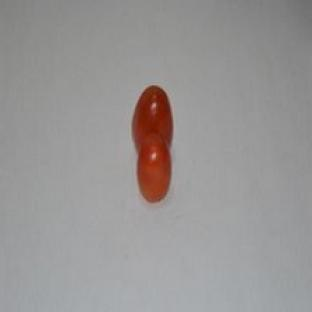Tomato: (133, 85, 172, 151), (137, 133, 171, 201)
